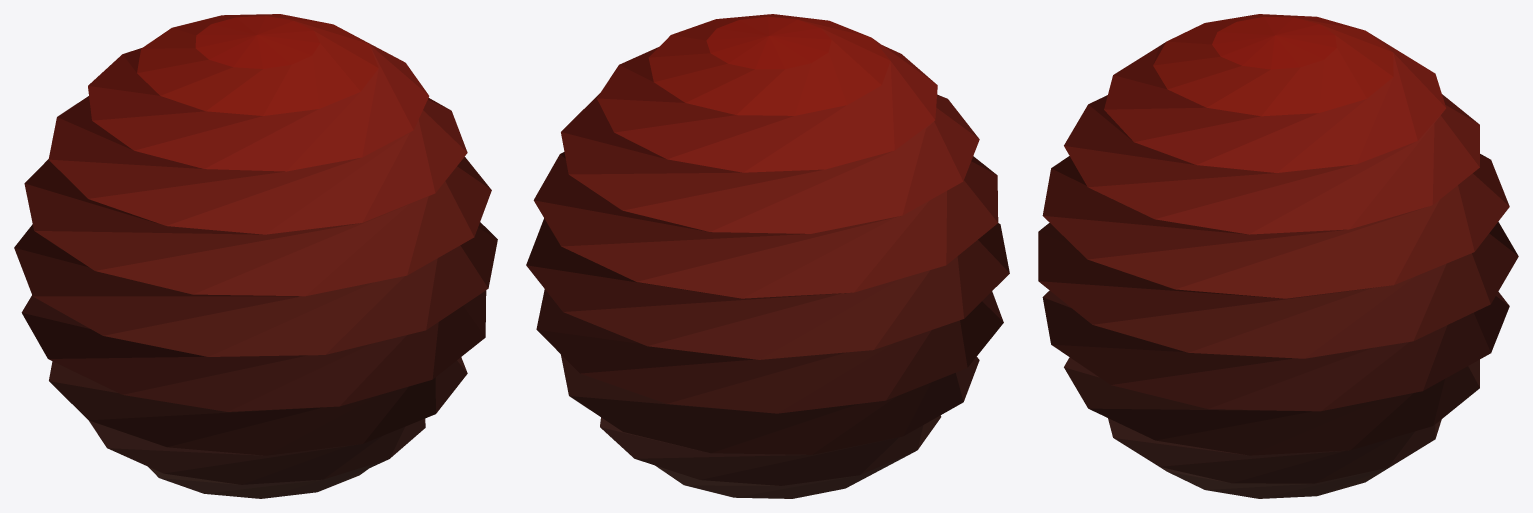
File: Planet5.glb
The picture shows the model from 3 angles, left to right: view 1: azimuth 30°, elevation 25°; view 2: azimuth 150°, elevation 25°; view 3: azimuth 270°, elevation 25°; orthographic projection.
Visible parts, largest first — view 1: Sphere; view 2: Sphere; view 3: Sphere.
Part boxes in pixels (x1,y1,x2,y2): Sphere: (14, 14, 497, 498); Sphere: (526, 14, 1009, 498); Sphere: (1038, 14, 1518, 498).
Bounding box in the file's own units: 2.36 × 2.38 × 2.35.
